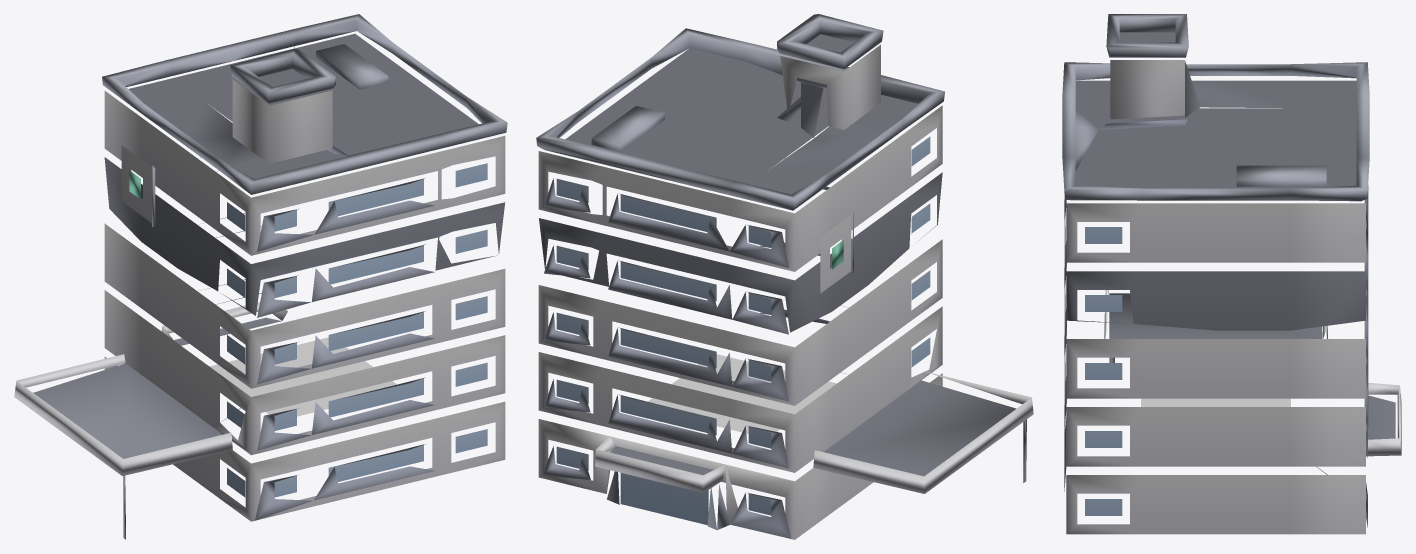
3 views of the same model, side by side, from view 1: azimuth 30°, elevation 25°; view 2: azimuth 150°, elevation 25°; view 3: azimuth 270°, elevation 25° (orthographic). The views are drawn at different scales.
Size of the model in its own units: 18.45 by 19.84 by 14.48.
